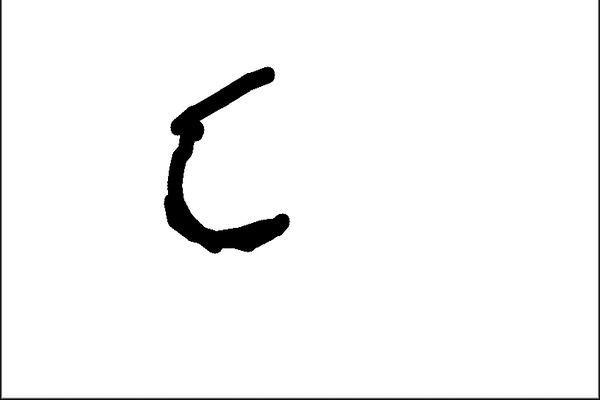C: (146, 61, 294, 255)
